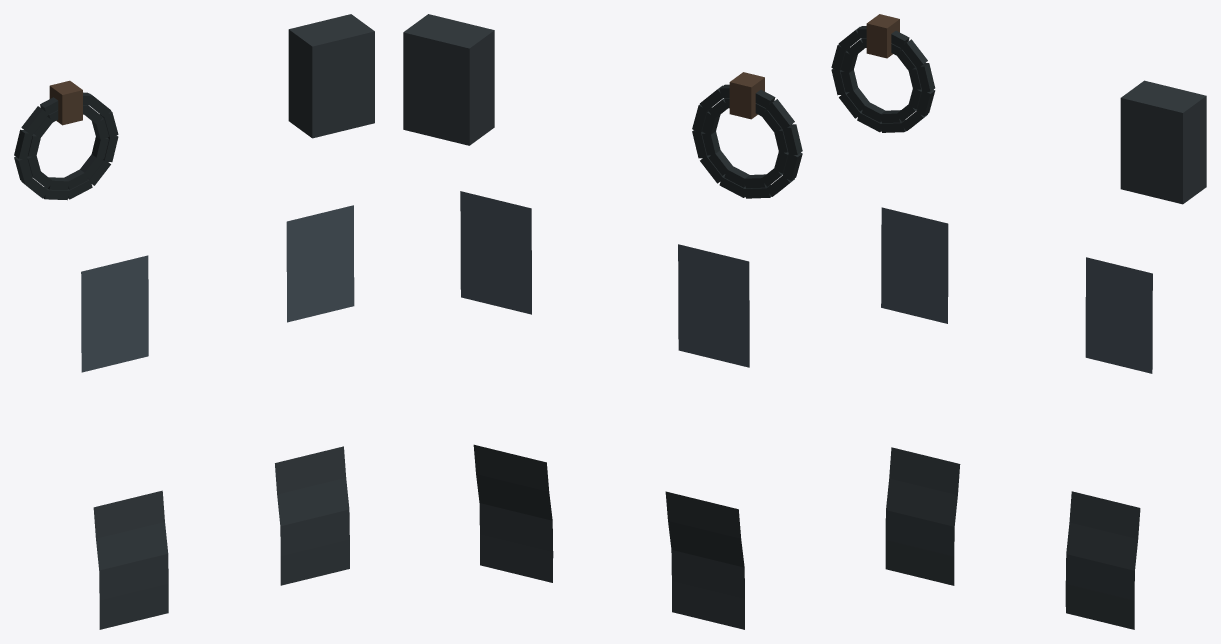
File: lwf_sound_female_overlay_v1.glb
3 views of the same model, side by side, from view 1: azimuth 30°, elevation 25°; view 2: azimuth 150°, elevation 25°; view 3: azimuth 330°, elevation 25° (orthographic). The views are drawn at different scales.
Visible parts, largest first — view 1: LWF_Sound_Female_Overlay; view 2: LWF_Sound_Female_Overlay; view 3: LWF_Sound_Female_Overlay.
Part boxes in pixels (bbox=[...]): LWF_Sound_Female_Overlay: bbox=[14, 14, 374, 629]; LWF_Sound_Female_Overlay: bbox=[403, 14, 802, 629]; LWF_Sound_Female_Overlay: bbox=[831, 14, 1206, 629].
Size of the model in its own units: 0.3798 by 0.5475 by 0.0659.
Materials: 1 (1 with a texture image).
